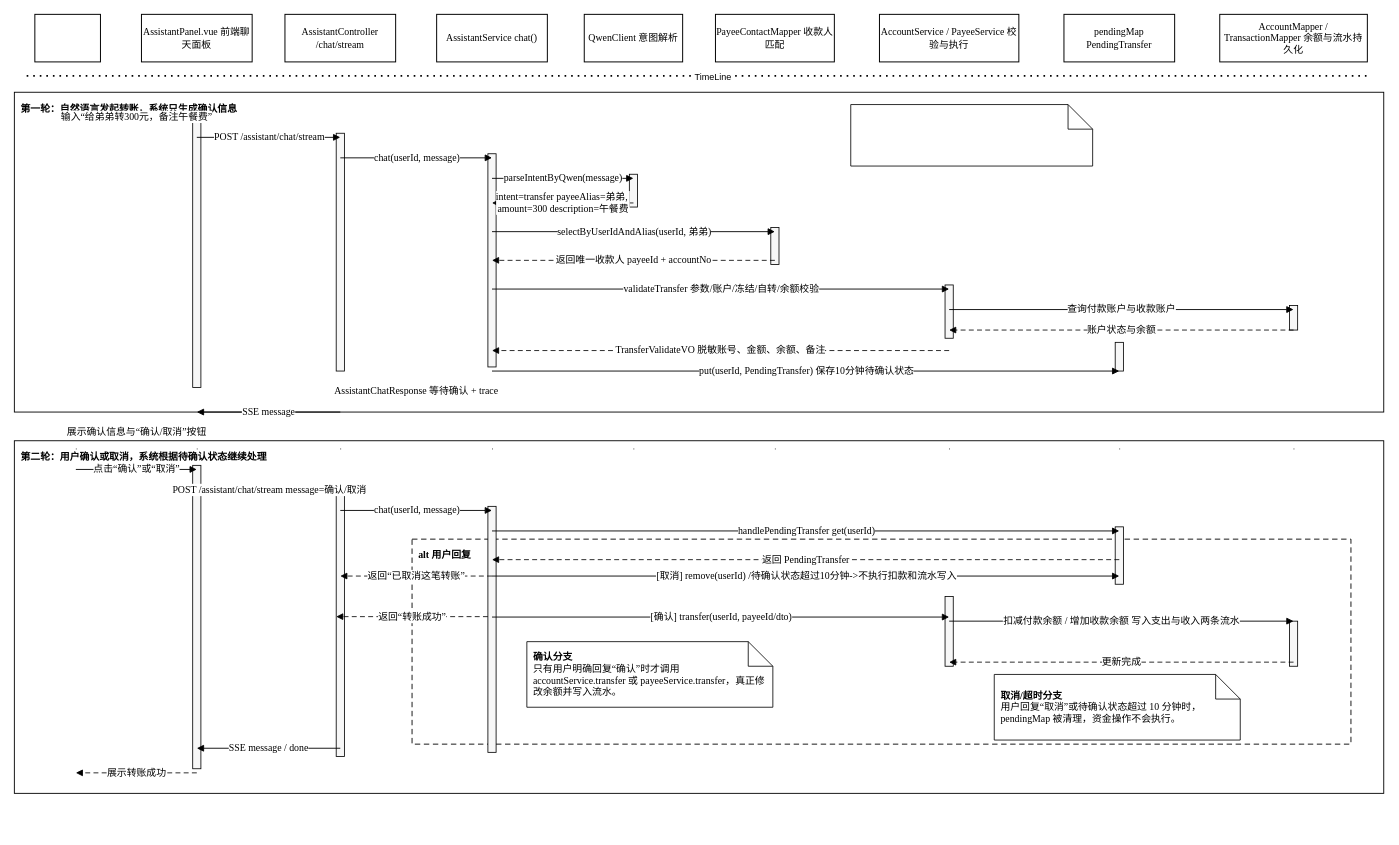
Image size: 1399x845. Some labels were removed from this diagram. The centre of each missing label's shape, as x and y in pixels:
安全约束 第一次自然语言转账请求不会直接扣款，只生成脱敏确认信息并写入 pendingMap。: the point at 971,135
用户: the point at 67,37
